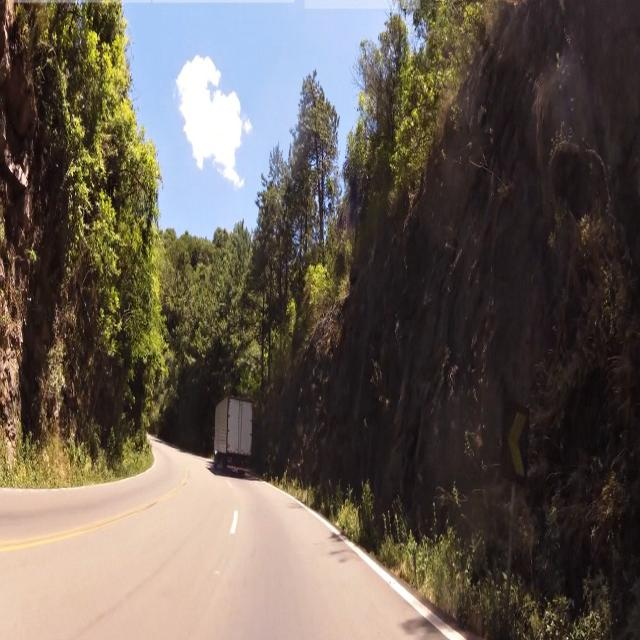Del: (504, 396, 532, 481)
